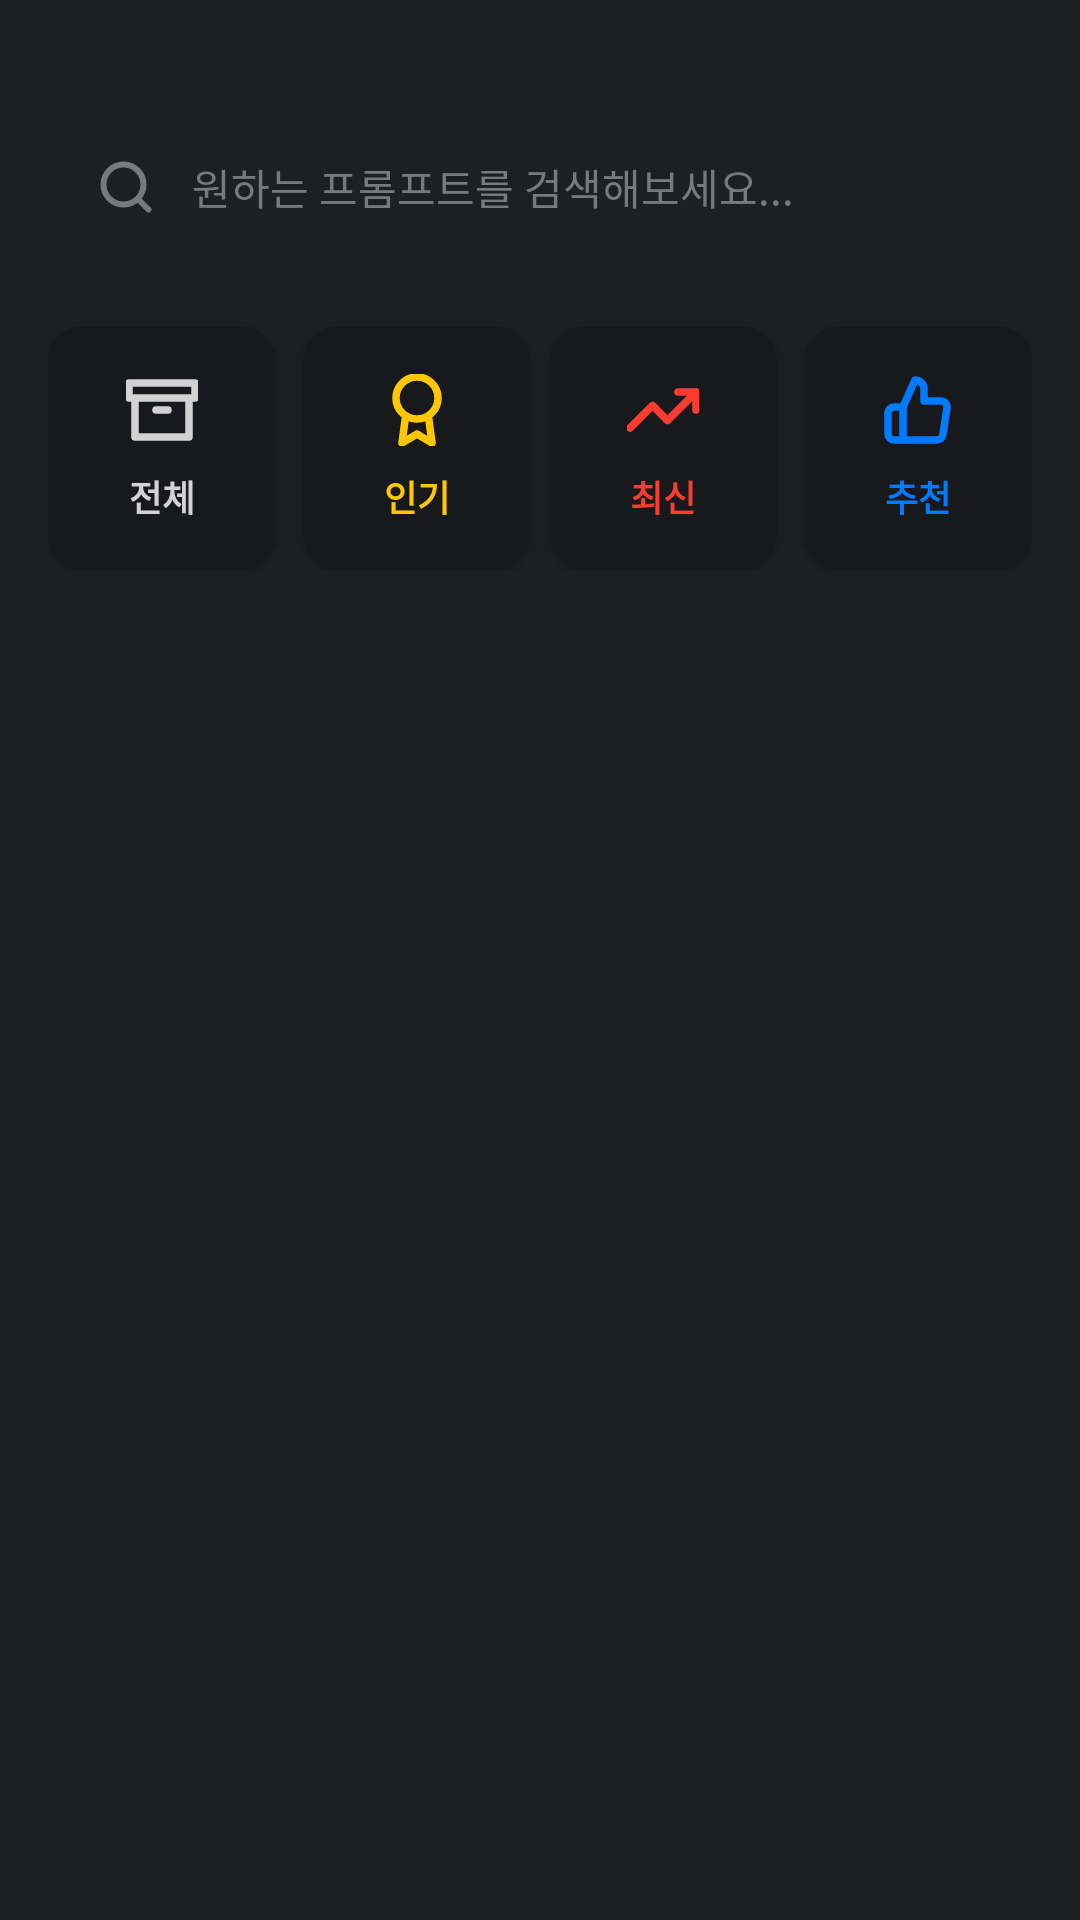

Icons on this 1080 × 1920 Android screen, each with the point to tap as point (x, y):
category award: point (417, 410)
category trend: point (663, 410)
search: point (126, 187)
